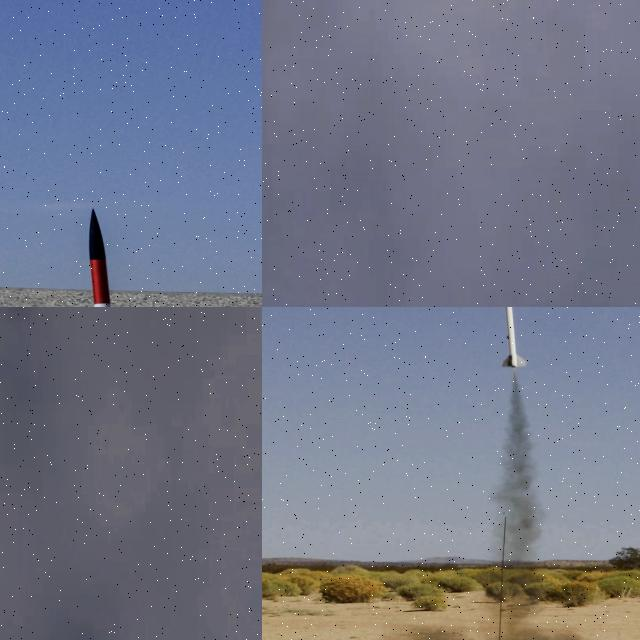Rocket: (84, 207, 151, 307), (500, 307, 527, 369)
